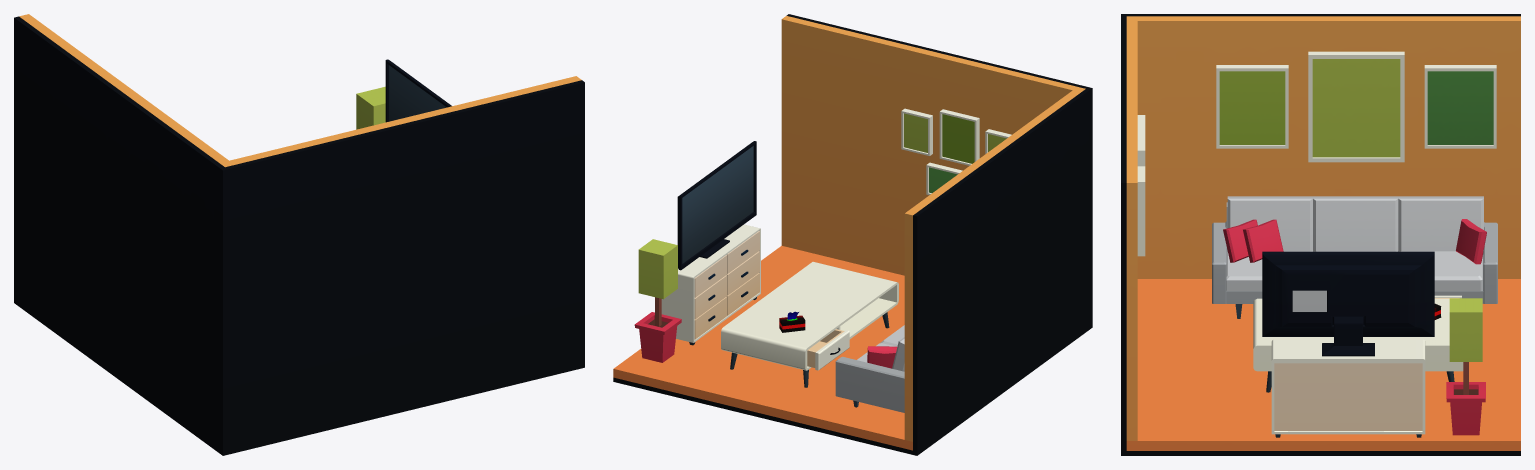
Rendered from Room3_Living_Room.glb.
The picture shows the model from 3 angles, left to right: view 1: azimuth 30°, elevation 25°; view 2: azimuth 150°, elevation 25°; view 3: azimuth 270°, elevation 25°; orthographic projection. The views are drawn at different scales.
Parts seen in each view (by area): view 1: Walls, TV, pCube11; view 2: Walls, Table_Body, Dresser, TV, Frame_Back, pCube11, Picture2, pCube9, Picture, Drawer, Picture4, Cushion_Top6; view 3: Walls, TV, Dresser, Picture8, Picture7, Picture6, Cushion_Top2, Cushion_Top3, Cushion_Top1, Table_Body, Frame_Back, pCube11 (+8 smaller).
Part boxes in pixels (left/top/right/bottom): Walls: left=14, top=14, right=584, bottom=455; TV: left=385, top=59, right=451, bottom=122; pCube11: left=356, top=86, right=385, bottom=129; Walls: left=613, top=14, right=1092, bottom=455; Table_Body: left=721, top=261, right=898, bottom=370; Dresser: left=661, top=224, right=760, bottom=345; TV: left=677, top=141, right=756, bottom=270; Frame_Back: left=835, top=356, right=904, bottom=412; pCube11: left=638, top=239, right=677, bottom=299; Picture2: left=939, top=109, right=979, bottom=165; pCube9: left=634, top=312, right=681, bottom=362; Picture: left=901, top=108, right=932, bottom=155; Drawer: left=807, top=329, right=849, bottom=370; Picture4: left=926, top=162, right=962, bottom=195; Cushion_Top6: left=867, top=346, right=897, bottom=368; Walls: left=1121, top=14, right=1520, bottom=455; TV: left=1262, top=251, right=1434, bottom=356; Dresser: left=1271, top=339, right=1425, bottom=437; Picture8: left=1308, top=51, right=1404, bottom=162; Picture7: left=1216, top=65, right=1288, bottom=148; Picture6: left=1424, top=65, right=1496, bottom=148; Cushion_Top2: left=1313, top=196, right=1398, bottom=251; Cushion_Top3: left=1398, top=196, right=1483, bottom=251; Cushion_Top1: left=1227, top=196, right=1312, bottom=251; Table_Body: left=1253, top=298, right=1463, bottom=371; Frame_Back: left=1212, top=202, right=1497, bottom=303; pCube11: left=1449, top=298, right=1482, bottom=361.
Size of the model in its own units: 365 by 275 by 365.
Materials: 1 (1 with a texture image).
